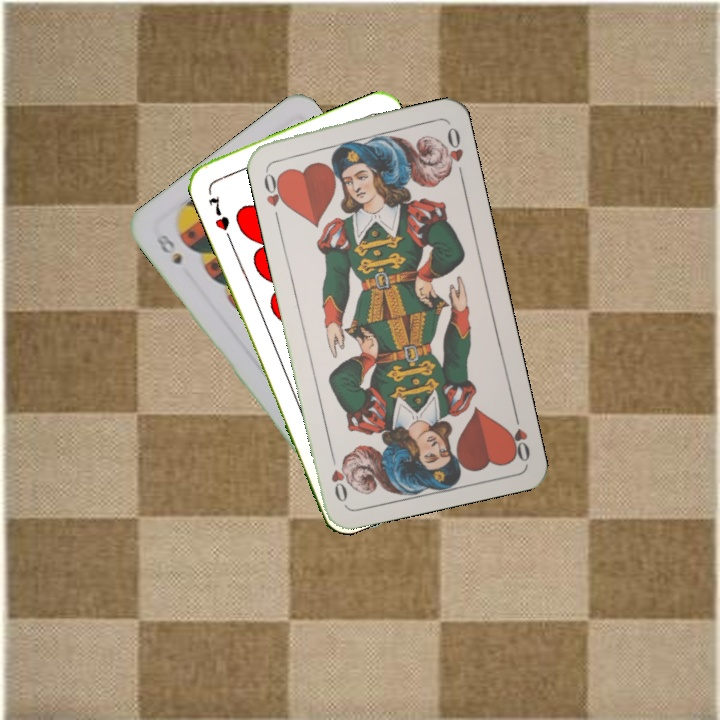H7: (204, 192, 232, 233)
HO: (259, 163, 290, 222), (503, 405, 533, 464)
S8: (152, 230, 185, 268)
